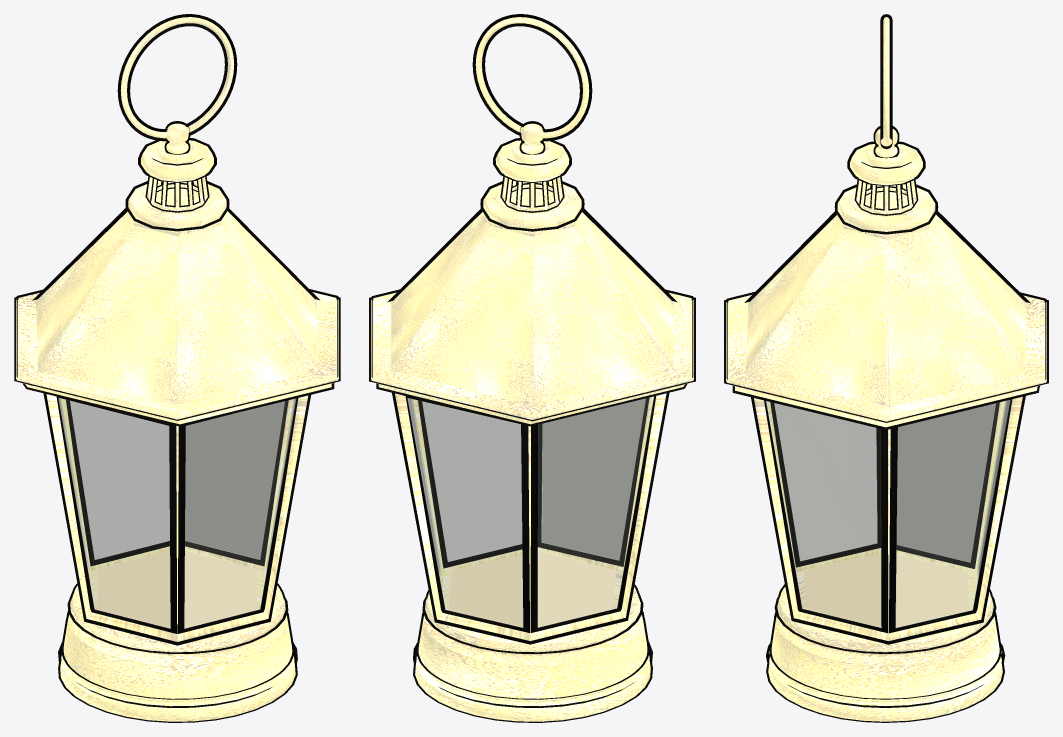
The model's file is slligt.glb.
3 renders of one model, left to right at view 1: azimuth 30°, elevation 25°; view 2: azimuth 150°, elevation 25°; view 3: azimuth 270°, elevation 25°, orthographic.
Parts seen in each view (by area): view 1: 六梯形头部, 六面玻璃, 金属外围, 底座身体, 六边形盖子, 柱体.上下, 手环, 柱体.中间, 扣手1, 扣手底座; view 2: 六梯形头部, 六面玻璃, 金属外围, 底座身体, 六边形盖子, 柱体.上下, 手环, 柱体.中间, 扣手1, 扣手底座; view 3: 六梯形头部, 六面玻璃, 金属外围, 底座身体, 六边形盖子, 柱体.上下, 手环, 柱体.中间, 扣手1, 扣手底座.
Boxes of the visible parts, left/top/right/bottom form: 六梯形头部: left=32, top=208, right=320, bottom=405; 六面玻璃: left=58, top=397, right=296, bottom=628; 金属外围: left=43, top=393, right=310, bottom=645; 底座身体: left=58, top=583, right=297, bottom=722; 六边形盖子: left=14, top=289, right=340, bottom=426; 柱体.上下: left=125, top=138, right=229, bottom=231; 手环: left=117, top=14, right=237, bottom=141; 柱体.中间: left=145, top=176, right=209, bottom=212; 扣手1: left=164, top=121, right=190, bottom=154; 扣手底座: left=157, top=141, right=197, bottom=164; 六梯形头部: left=387, top=208, right=677, bottom=406; 六面玻璃: left=407, top=397, right=653, bottom=627; 金属外围: left=392, top=392, right=669, bottom=644; 底座身体: left=413, top=584, right=652, bottom=722; 六边形盖子: left=369, top=289, right=695, bottom=426; 柱体.上下: left=480, top=138, right=584, bottom=231; 手环: left=472, top=14, right=592, bottom=141; 柱体.中间: left=500, top=176, right=564, bottom=212; 扣手1: left=519, top=121, right=545, bottom=154; 扣手底座: left=512, top=141, right=552, bottom=164; 六梯形头部: left=744, top=211, right=1030, bottom=407; 六面玻璃: left=766, top=399, right=1010, bottom=627; 金属外围: left=751, top=396, right=1025, bottom=644; 底座身体: left=766, top=584, right=1005, bottom=722; 六边形盖子: left=724, top=292, right=1048, bottom=429; 柱体.上下: left=834, top=141, right=938, bottom=234; 手环: left=880, top=14, right=892, bottom=149; 柱体.中间: left=854, top=179, right=918, bottom=215; 扣手1: left=873, top=126, right=899, bottom=158; 扣手底座: left=866, top=144, right=906, bottom=167.
Bounding box in the file's own units: 2.37 × 4.55 × 2.05.
4 materials, 1 textured.
